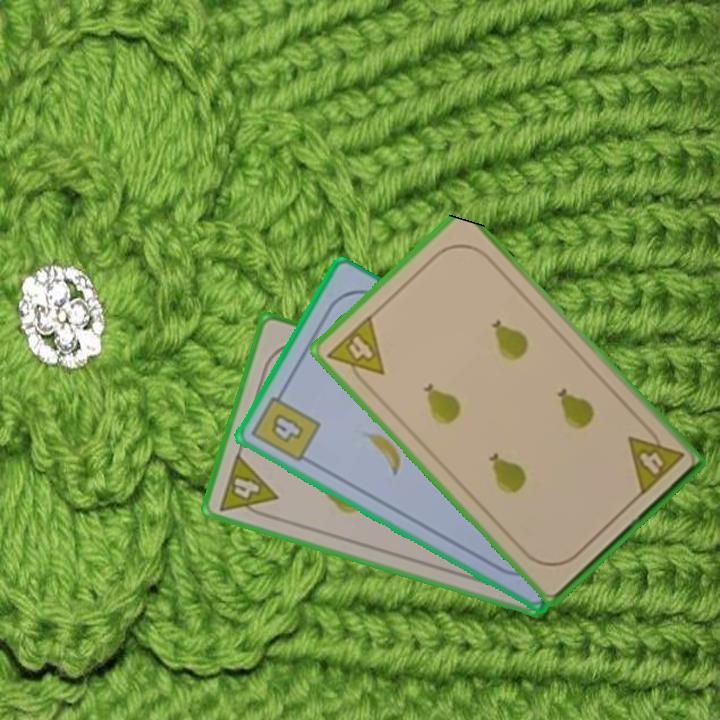4b: (248, 384, 324, 465)
4p: (323, 311, 388, 392), (624, 420, 686, 499), (215, 450, 281, 523)
